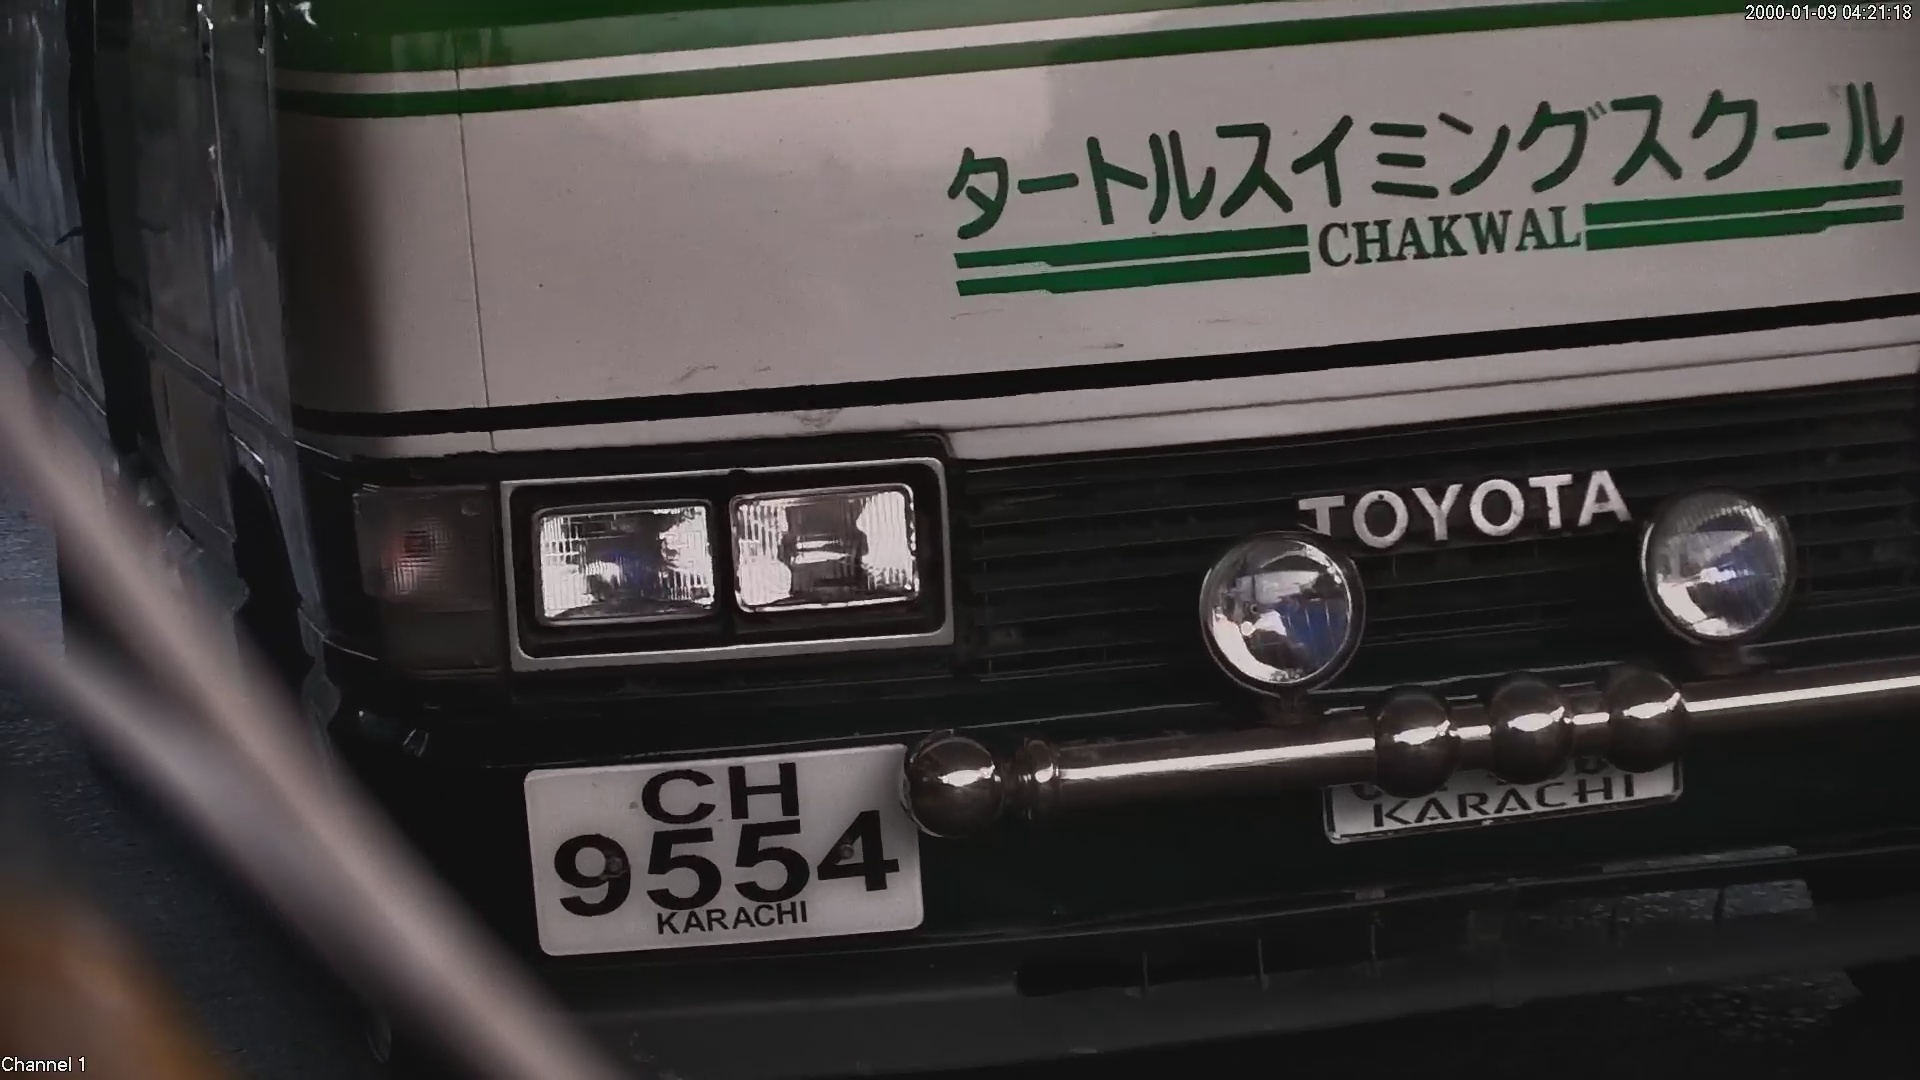Number_Plate: (489, 740, 952, 953)
Undefined: (919, 59, 1919, 292), (456, 446, 971, 640), (1306, 696, 1700, 823), (1269, 444, 1645, 551)
